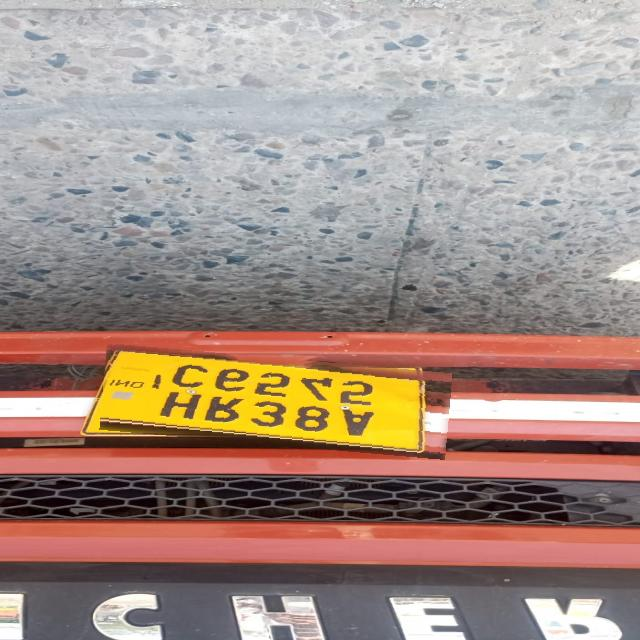License-plate: (101, 351, 450, 452)
